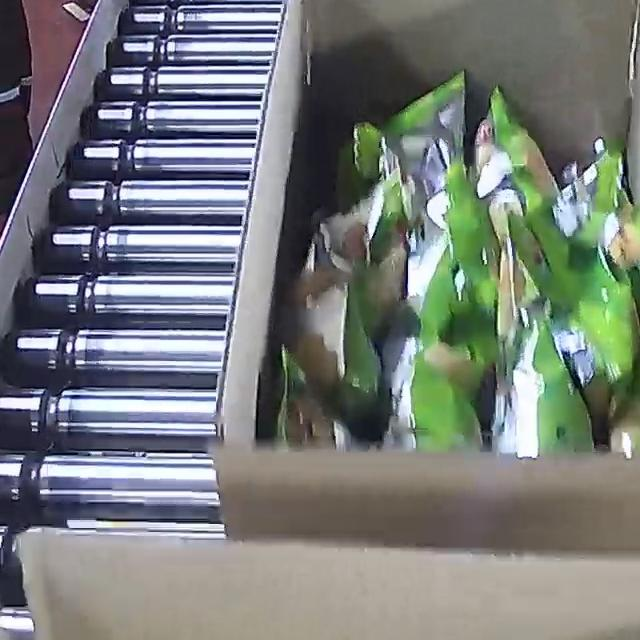yogurt: (275, 67, 640, 458)
